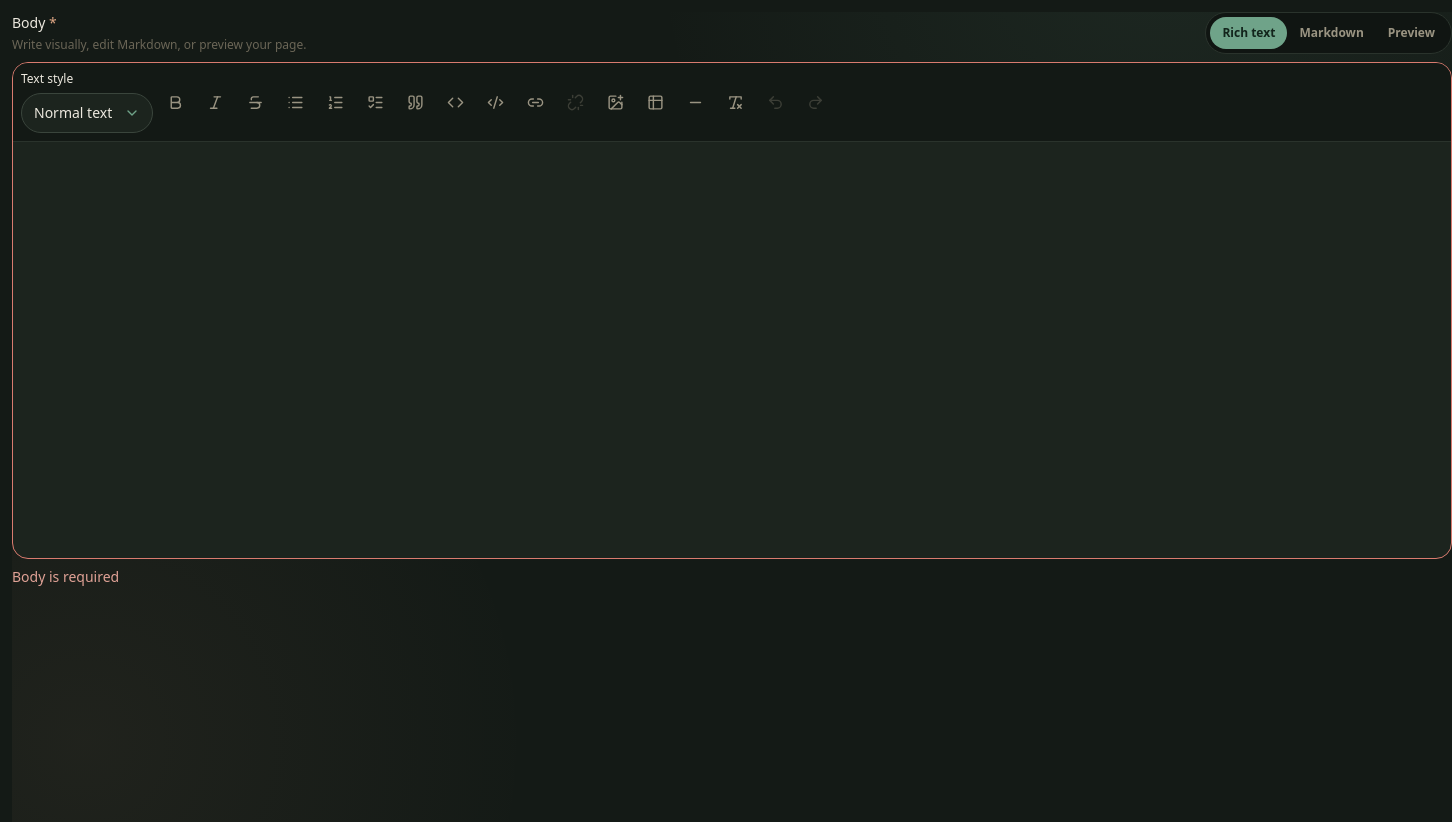
MarkdownEditor › shows errors and an empty preview
Expected: the message reads "Body is required", [12,567,119,586]
Click the tab "Preview" at (1411, 33), box [1376,17,1447,49]
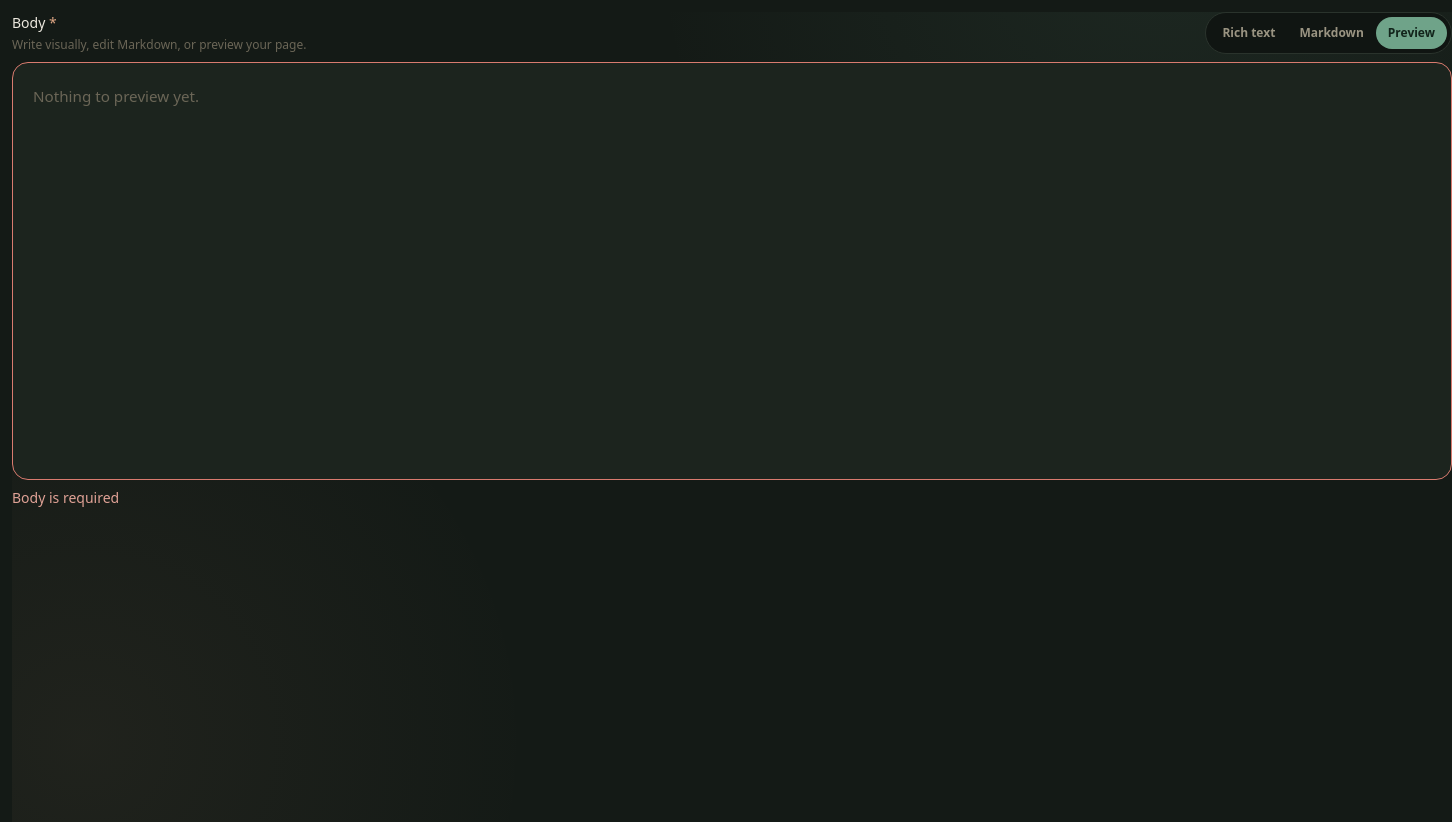
Expected: the text "Nothing to preview yet." is shown, [33,86,199,106]
